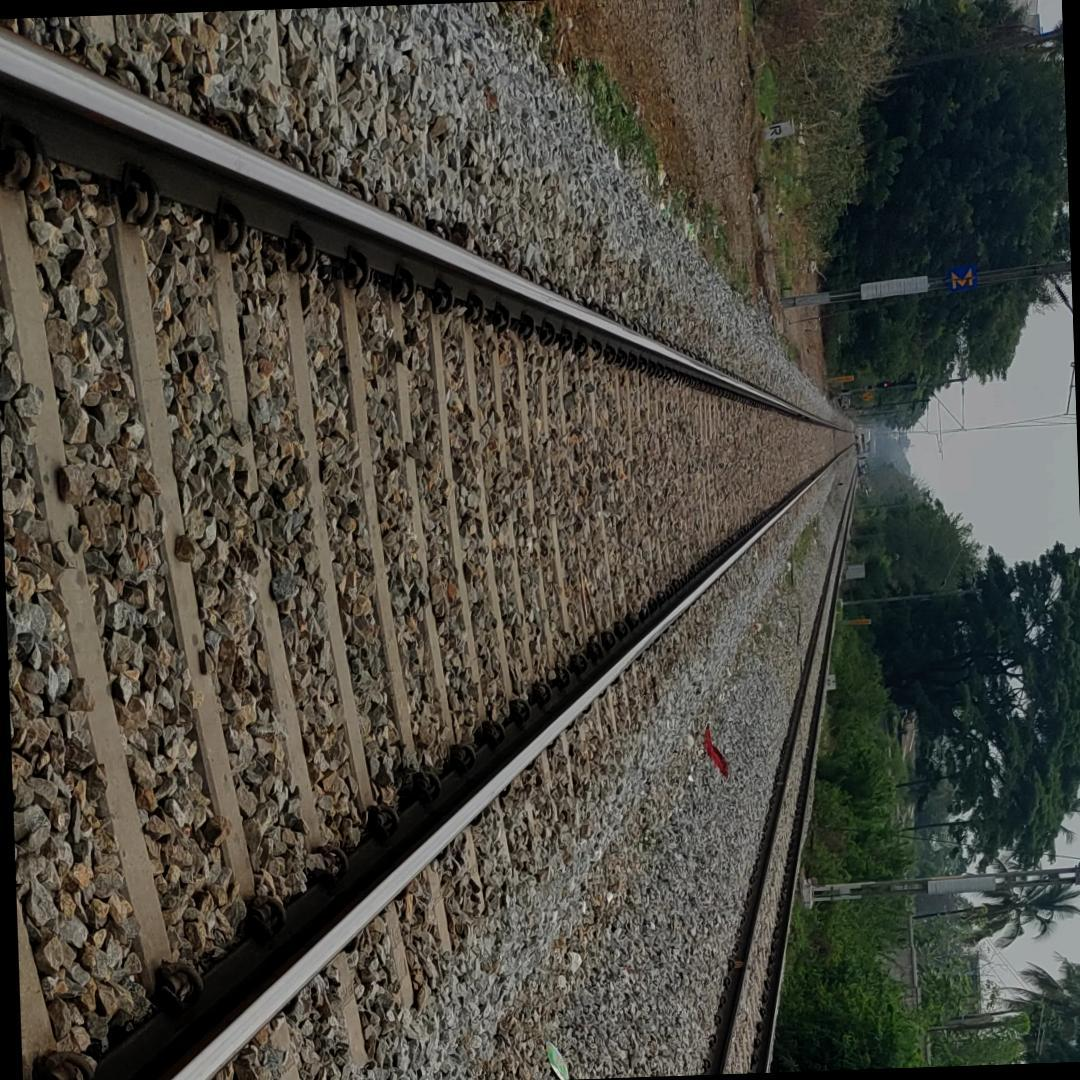track: (0, 21, 863, 1080)
